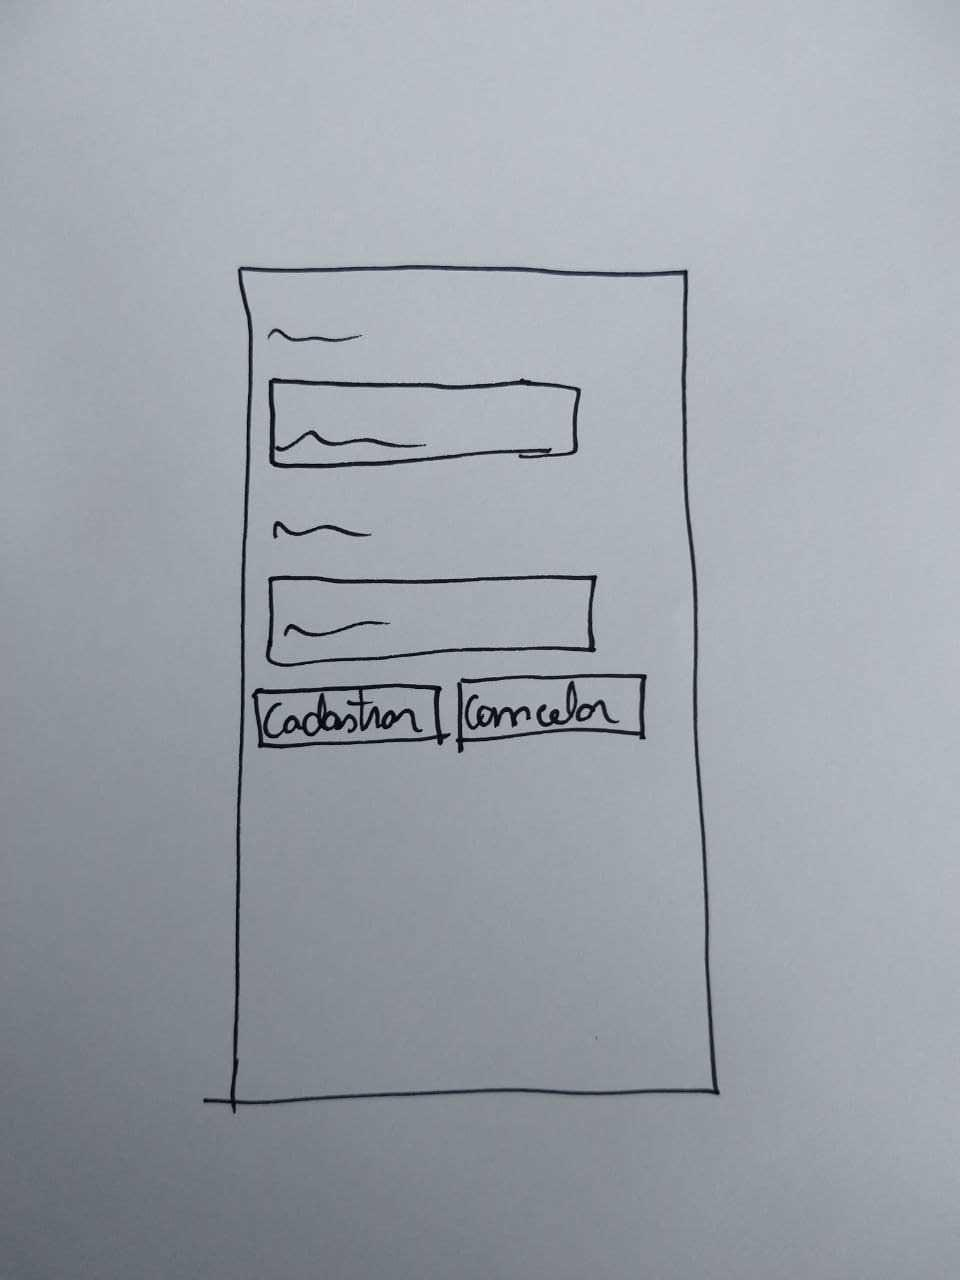Button: (456, 674, 646, 742), (254, 683, 444, 751)
Label: (271, 521, 371, 544), (266, 326, 365, 345)
Screen: (229, 266, 717, 1103)
TextBox: (267, 573, 600, 667), (268, 378, 583, 468)
